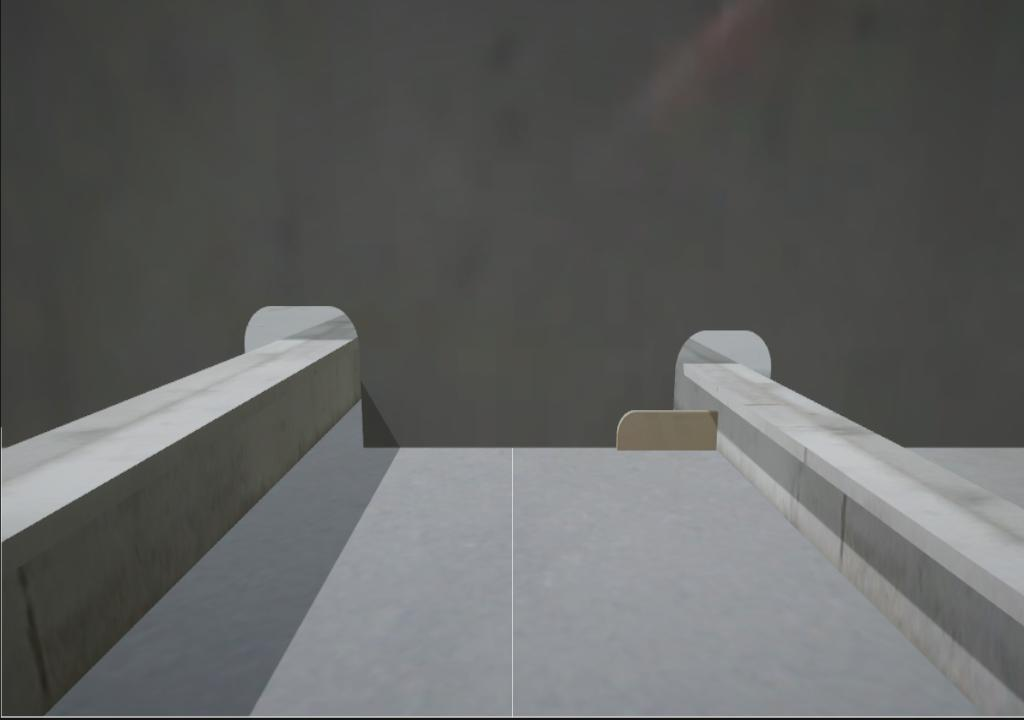fillet_yong_jeop_jang: (361, 438, 617, 455)
plate_CP05: (615, 409, 722, 453)
